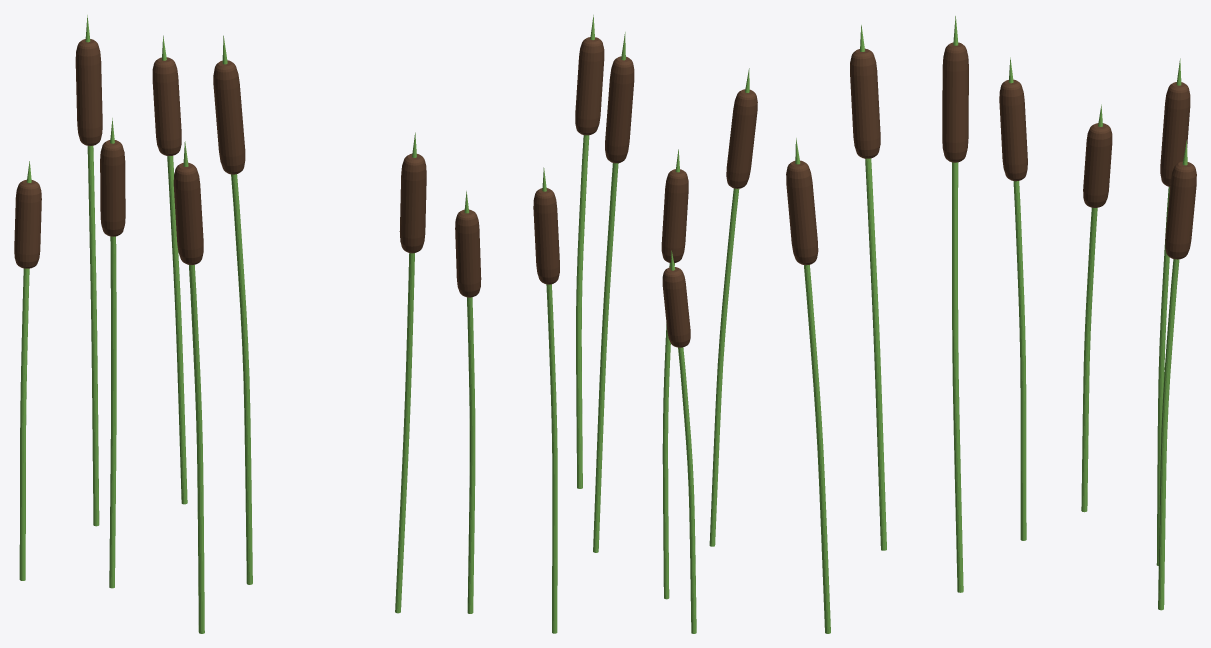
The model's file is Reed 1.fbx.
3 views of the same model, side by side, from view 1: azimuth 30°, elevation 25°; view 2: azimuth 150°, elevation 25°; view 3: azimuth 270°, elevation 25° (orthographic). The views are drawn at different scales.
Visible parts, largest first — view 1: Reed 1; view 2: Reed 1; view 3: Reed 1.
Part boxes in pixels (bbox=[...]): Reed 1: bbox=[14, 15, 426, 633]; Reed 1: bbox=[455, 15, 757, 633]; Reed 1: bbox=[786, 16, 1196, 633].
Bounding box in the file's own units: 1.84 × 3.7 × 2.44.
